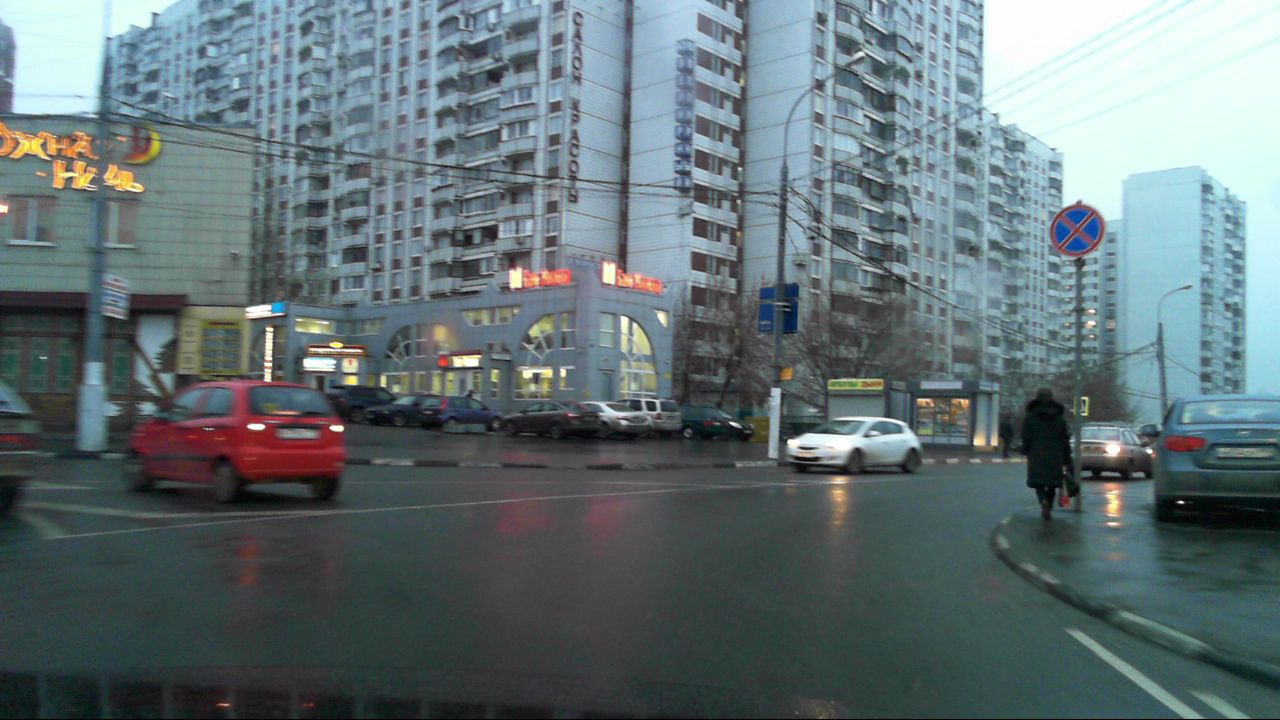No Parking: (1048, 203, 1106, 258)
